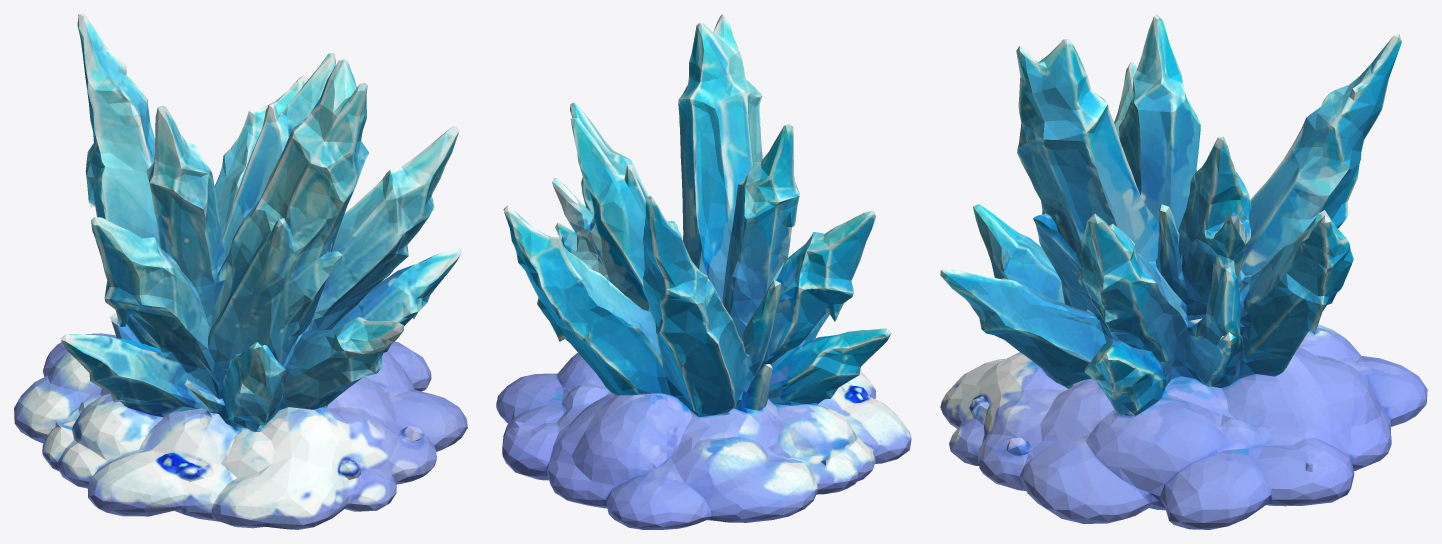
File: ice_spike.glb
3 views of the same model, side by side, from view 1: azimuth 30°, elevation 25°; view 2: azimuth 150°, elevation 25°; view 3: azimuth 270°, elevation 25° (orthographic). The views are drawn at different scales.
Visible parts, largest first — view 1: tmpirbjb_jc.ply; view 2: tmpirbjb_jc.ply; view 3: tmpirbjb_jc.ply.
Boxes of the visible parts, x1,y1,x2,y2 form: tmpirbjb_jc.ply: [14, 14, 467, 529]; tmpirbjb_jc.ply: [496, 14, 911, 529]; tmpirbjb_jc.ply: [940, 14, 1427, 529].
Size of the model in its own units: 1.9 by 1.95 by 1.97.
1 material, 1 textured.
